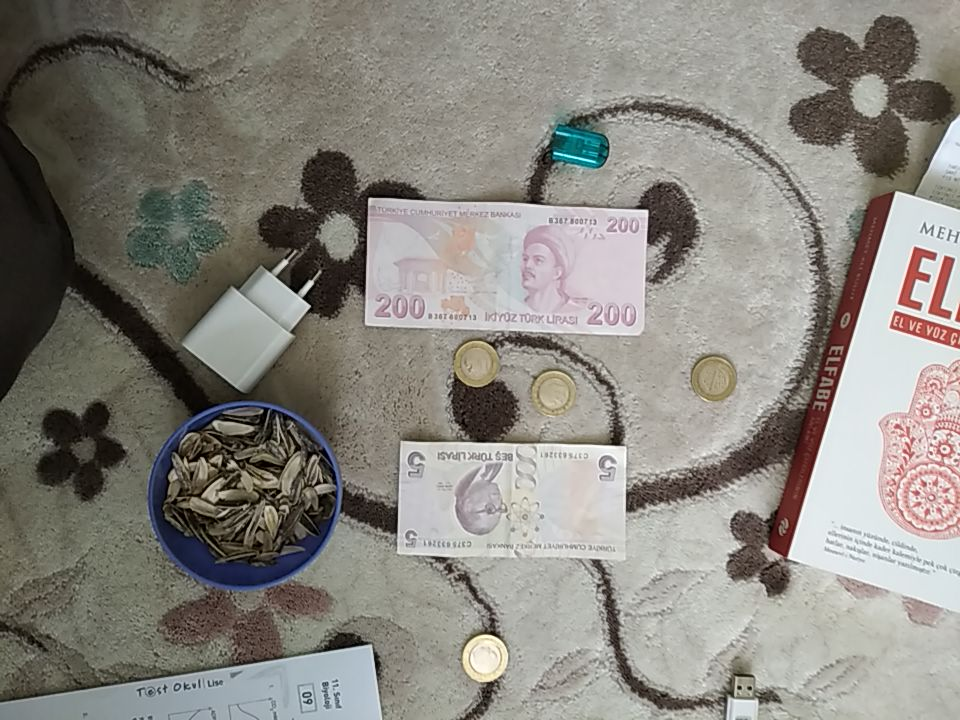200TL: (363, 196, 649, 338)
5TL: (394, 441, 627, 562)
